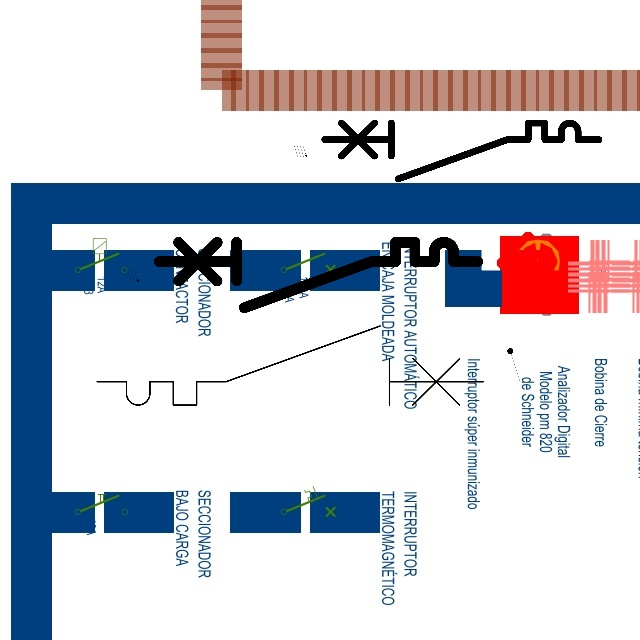interruptor_termomagnetico: (87, 316, 493, 415), (150, 234, 485, 316), (317, 116, 606, 186)
